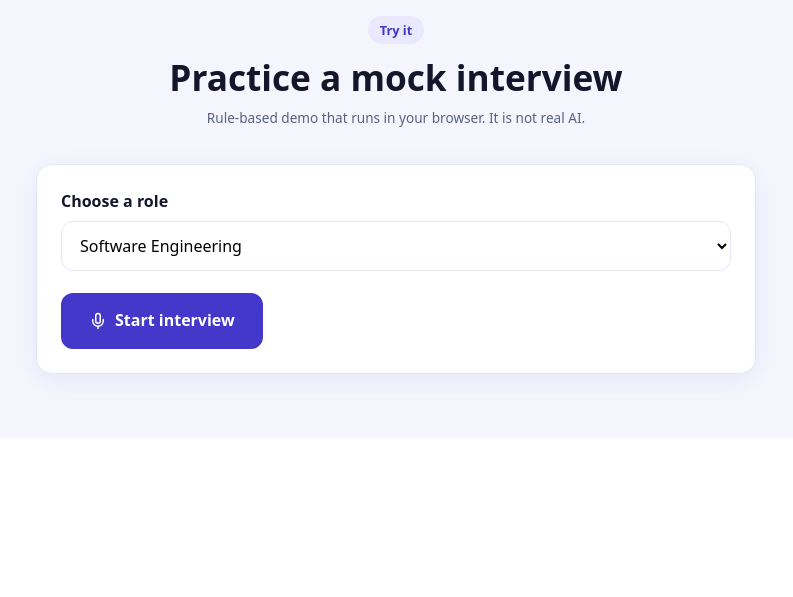
Test: MockInterview › requires an answer before scoring
This screenshot has width=793, height=597.
Click the button "Start interview": (162, 321) [61,293,263,349]
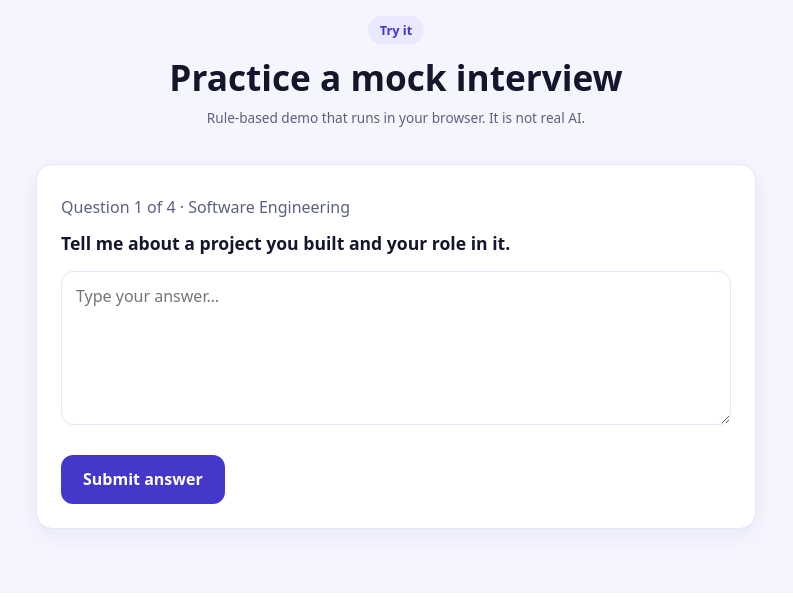
Click the button "Submit answer": (143, 480) [61,455,225,504]
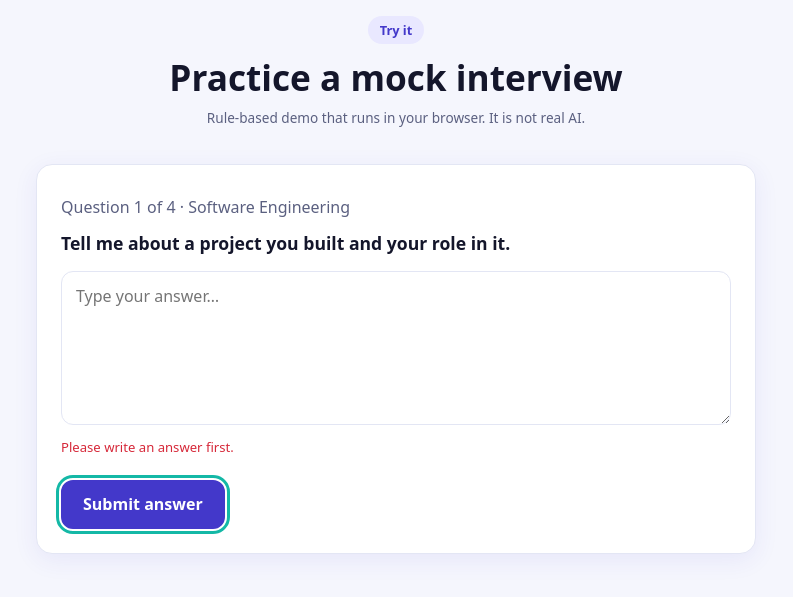
Expected: the message shows "write an answer", [61,438,234,456]
